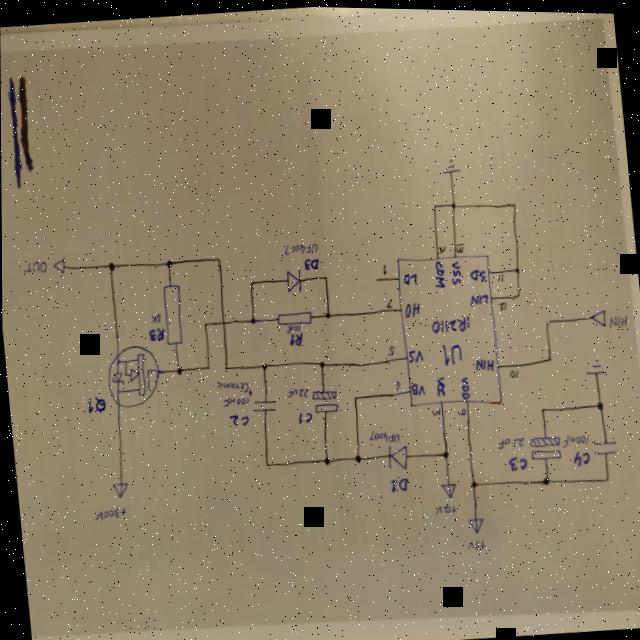capacitor: (527, 431, 562, 460), (310, 386, 338, 417), (591, 435, 618, 455), (252, 395, 277, 414)
crossover: (219, 318, 226, 326)
diode: (384, 441, 408, 471), (285, 265, 304, 293)
ground: (585, 354, 606, 375), (440, 154, 460, 175)
junction: (541, 472, 551, 485), (107, 260, 116, 272), (164, 257, 173, 268), (469, 477, 478, 488), (353, 451, 362, 462), (174, 365, 183, 376), (595, 397, 604, 408), (441, 447, 450, 458), (322, 454, 331, 465), (317, 358, 326, 369), (260, 360, 268, 370), (513, 263, 521, 272), (514, 288, 521, 298), (545, 353, 553, 361), (214, 255, 222, 263), (450, 199, 457, 208), (202, 319, 209, 328), (249, 316, 256, 324), (324, 310, 331, 318), (205, 362, 212, 370), (538, 403, 545, 411), (431, 200, 438, 208), (351, 393, 358, 401), (544, 316, 551, 324), (511, 199, 518, 207), (322, 273, 329, 280), (248, 278, 255, 285), (263, 460, 270, 467), (603, 473, 610, 480), (223, 364, 229, 370)
resistor: (159, 282, 186, 347), (276, 308, 313, 326)
source: (109, 478, 130, 501), (466, 515, 485, 533), (440, 480, 457, 497)
terminal: (589, 305, 607, 327), (51, 255, 67, 277)
text: (430, 312, 471, 334), (439, 336, 463, 367), (282, 238, 317, 258), (92, 505, 128, 524), (215, 376, 252, 394), (367, 424, 400, 444), (560, 428, 589, 447), (21, 258, 48, 277), (496, 432, 525, 449), (220, 392, 250, 408), (432, 257, 447, 288), (473, 353, 496, 372), (468, 288, 491, 307), (448, 256, 463, 285), (85, 394, 106, 414), (286, 384, 311, 400), (388, 475, 409, 493), (507, 452, 528, 470), (571, 447, 590, 465), (432, 501, 456, 515), (459, 372, 471, 400), (228, 411, 249, 427), (403, 299, 421, 317), (609, 310, 628, 327), (465, 535, 486, 550), (406, 346, 423, 363), (302, 255, 320, 271), (435, 374, 447, 397), (148, 325, 165, 341), (296, 409, 313, 424), (403, 269, 418, 285), (470, 265, 485, 280), (410, 380, 425, 395), (288, 330, 303, 345), (285, 322, 300, 333), (384, 343, 396, 356), (149, 312, 162, 323), (508, 366, 519, 378), (431, 403, 441, 416), (497, 298, 508, 309), (455, 240, 464, 253), (496, 270, 506, 281), (392, 377, 401, 388), (437, 242, 446, 253), (384, 296, 393, 307), (456, 405, 466, 414), (380, 263, 388, 274)
transistor: (103, 340, 162, 409)
